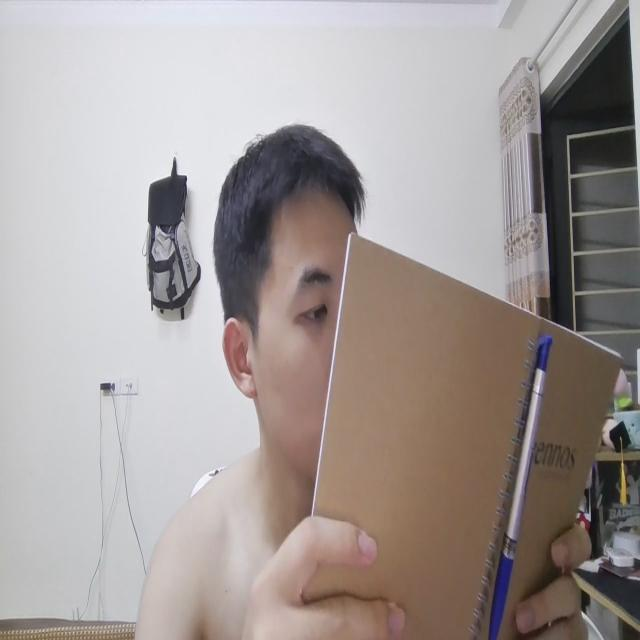book: (315, 217, 616, 635)
student: (202, 125, 360, 462)
